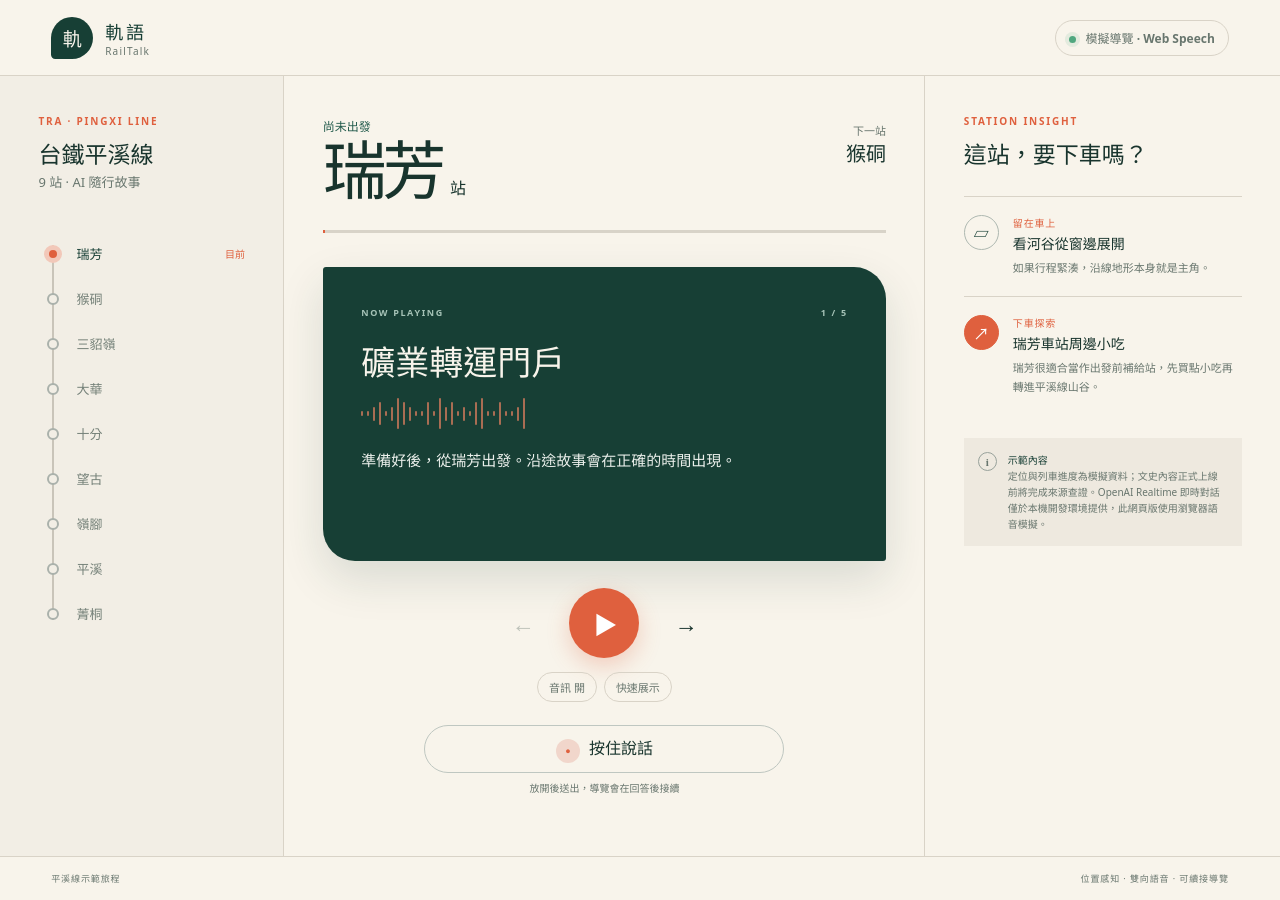
RailTalk web demo › shows the route and starts a journey
expect the heading "瑞芳" is shown: met, box [323,138,466,202]
expect the text "模擬導覽 · Web Speech" is shown: met, box [1055,20,1229,56]
Click the button named "開始旅程": (604, 623) [569,588,639,658]
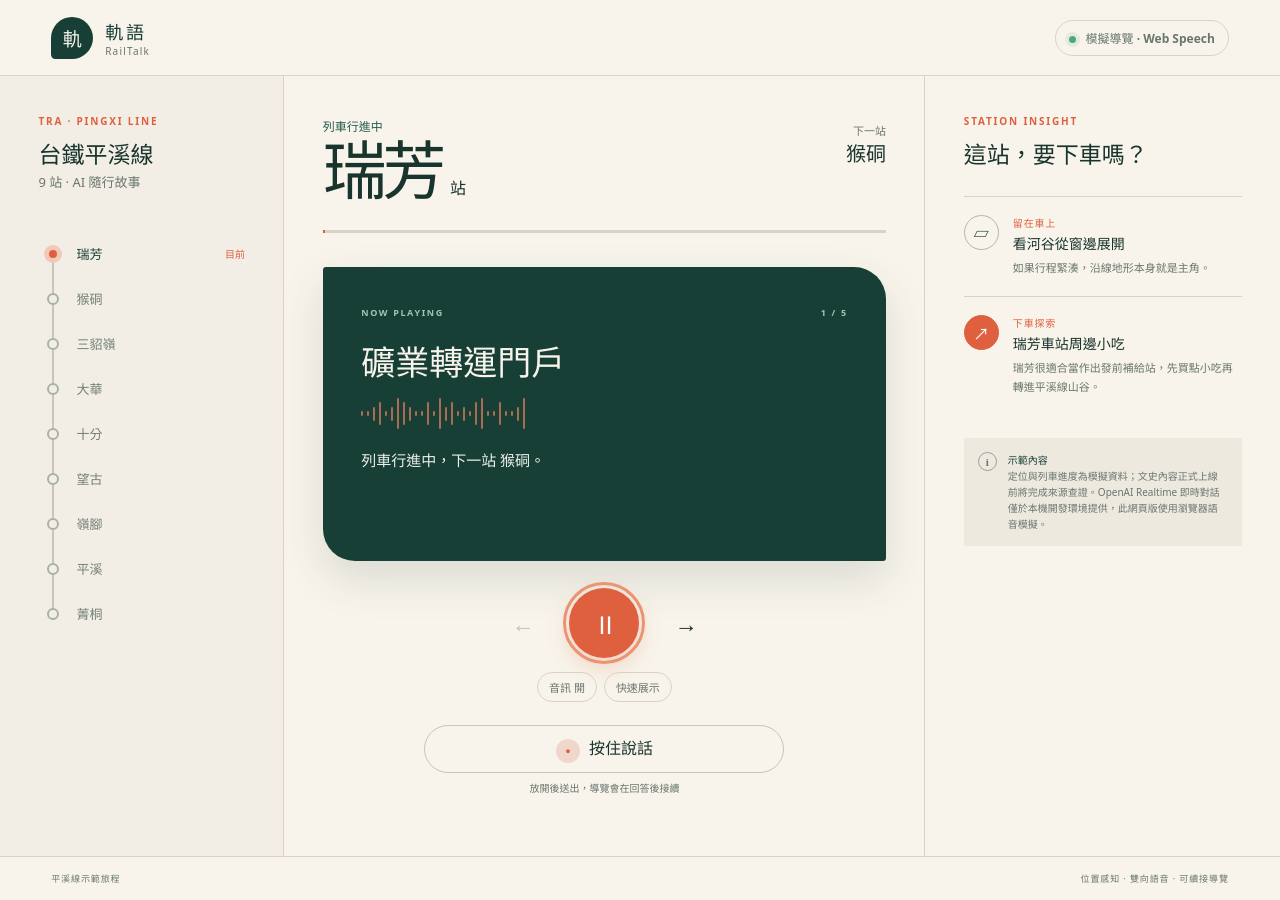
expect the text "列車行進中" is shown: met, box [323,117,383,135]
expect the text "列車行進中，下一站 猴硐。" is shown: met, box [361,450,545,470]
